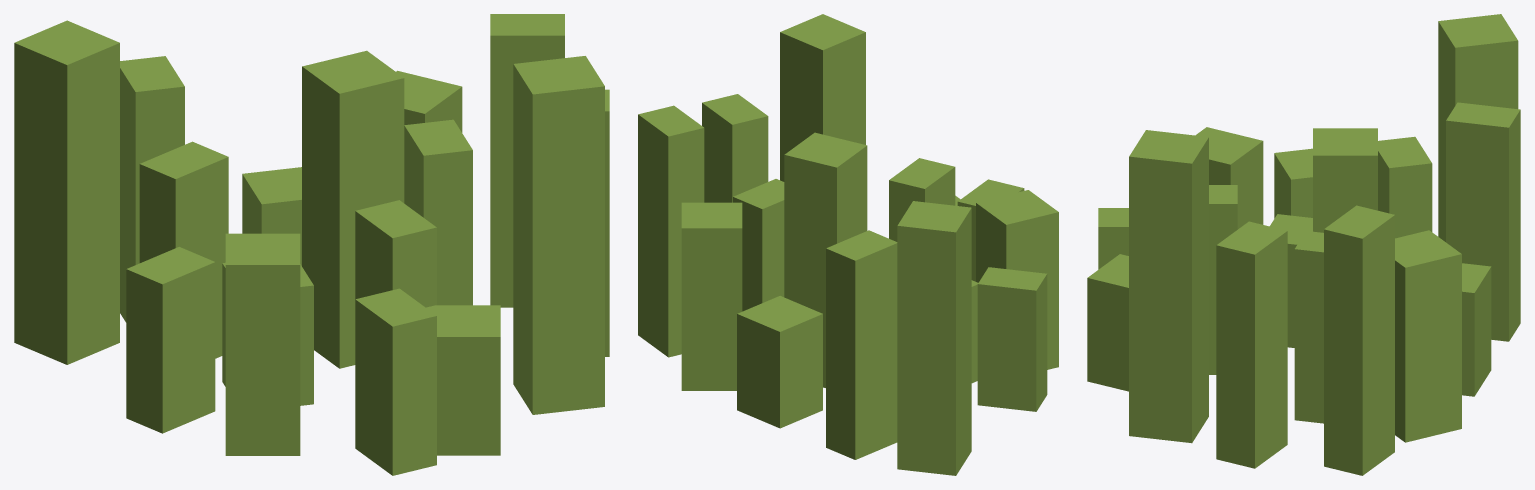
The model's file is SM_Grass_01_B.fbx.
The picture shows the model from 3 angles, left to right: view 1: azimuth 30°, elevation 25°; view 2: azimuth 150°, elevation 25°; view 3: azimuth 270°, elevation 25°; orthographic projection. The views are drawn at different scales.
Parts seen in each view (by area): view 1: pCube245; view 2: pCube245; view 3: pCube245.
Part boxes in pixels (<box>): pCube245: <box>14,14,609,475</box>; pCube245: <box>638,14,1058,475</box>; pCube245: <box>1087,14,1520,475</box>.
Bounding box in the file's own units: 28.85 × 18.76 × 26.35.
